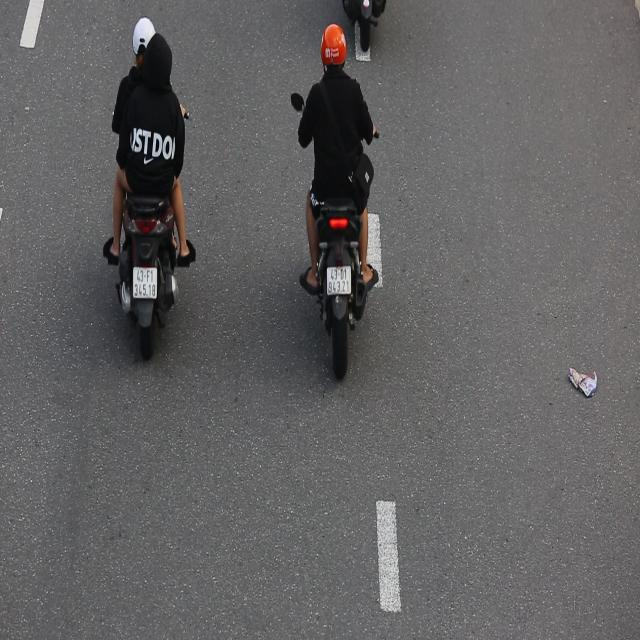motorbike: (98, 6, 202, 371), (285, 22, 383, 404)
